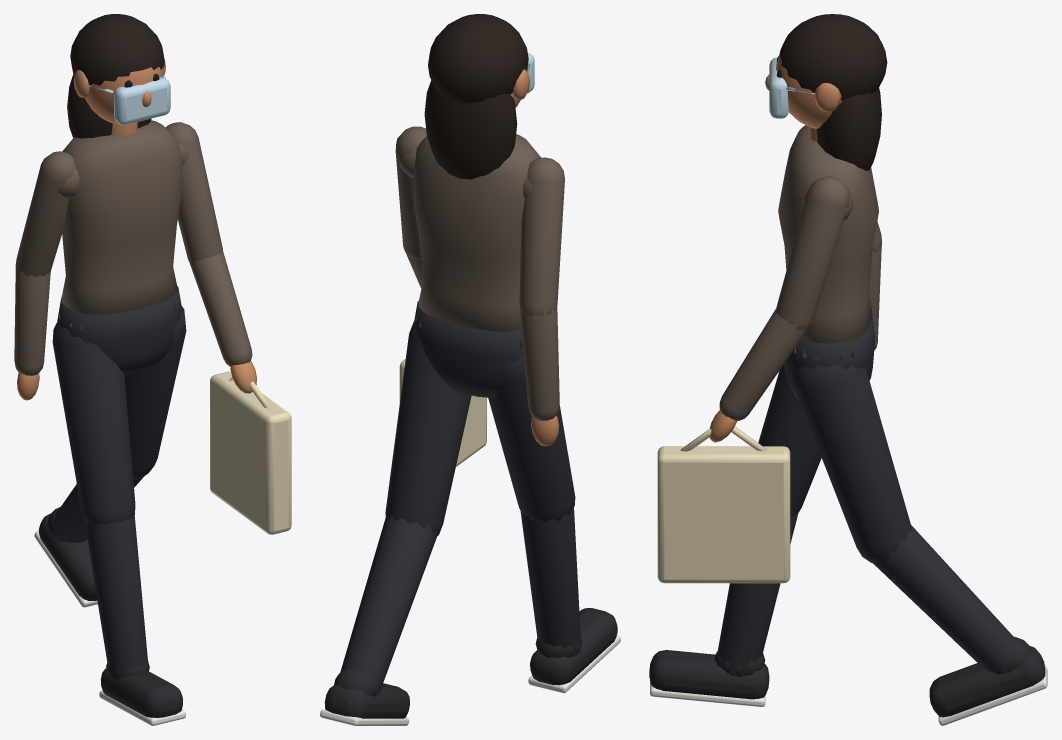
File: gloom_woman.fbx
3 views of the same model, side by side, from view 1: azimuth 30°, elevation 25°; view 2: azimuth 150°, elevation 25°; view 3: azimuth 270°, elevation 25° (orthographic). The views are drawn at different scales.
Parts seen in each view (by area): view 1: gloom_woman; view 2: gloom_woman; view 3: gloom_woman.
Part boxes in pixels (left/top/right/bottom): gloom_woman: left=14, top=14, right=291, bottom=725; gloom_woman: left=320, top=14, right=620, bottom=725; gloom_woman: left=649, top=14, right=1047, bottom=725.
Size of the model in its own units: 0.5172 by 1.74 by 0.8986.
